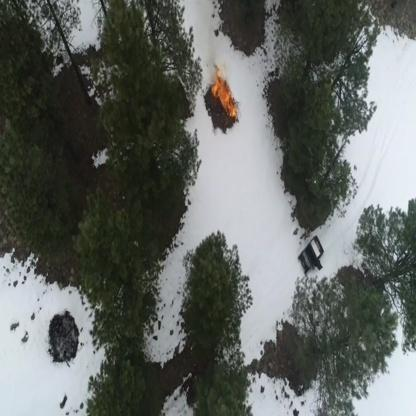Fire: (210, 68, 238, 120)
